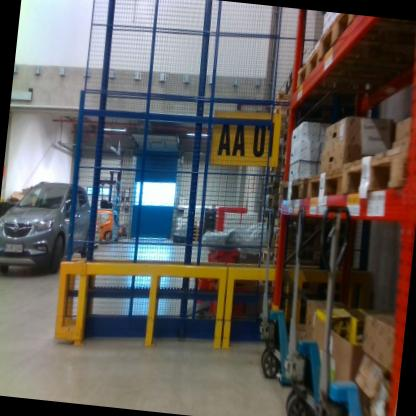forklift: (81, 157, 131, 251)
pallet: (292, 42, 381, 104), (339, 131, 408, 209), (315, 12, 387, 69), (302, 158, 342, 214), (279, 166, 311, 209), (257, 183, 280, 201), (259, 154, 278, 175), (259, 193, 279, 212), (271, 90, 289, 111), (261, 171, 279, 191), (256, 246, 273, 266), (257, 207, 277, 222), (274, 100, 289, 117), (260, 217, 278, 229), (273, 153, 283, 170), (277, 125, 286, 142), (274, 141, 284, 155), (281, 142, 289, 155), (281, 132, 288, 145), (279, 116, 288, 125)
pallet_truck: (298, 198, 402, 416), (270, 198, 346, 416), (242, 191, 306, 380)
small_load_carrier: (203, 278, 251, 326), (198, 240, 244, 279), (189, 270, 215, 309)
